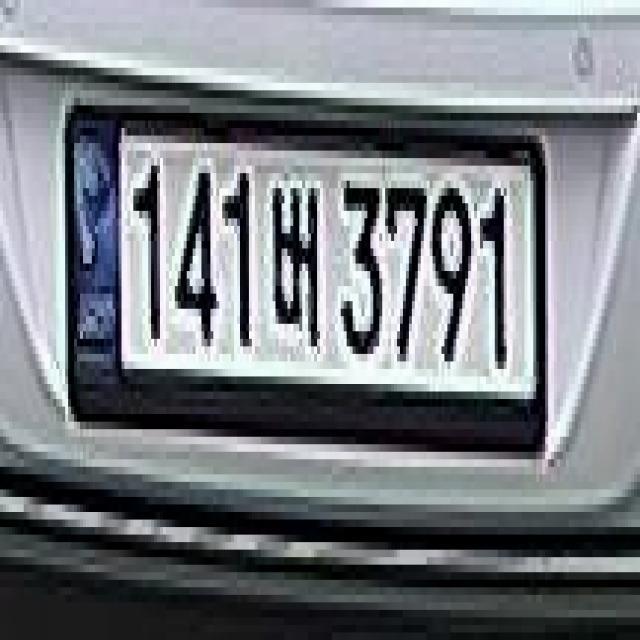illegal_plate: (64, 104, 550, 462)
